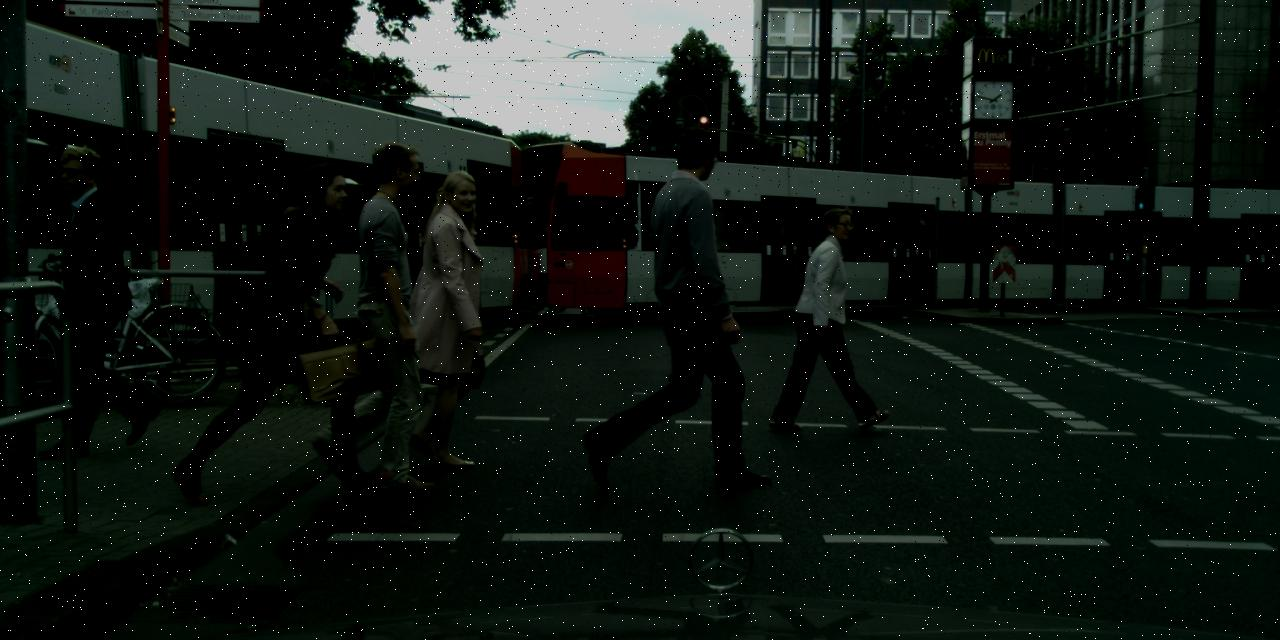ped: (612, 124, 756, 478), (308, 142, 446, 482), (234, 160, 370, 491), (32, 146, 154, 444), (386, 169, 506, 461), (790, 207, 879, 425)
